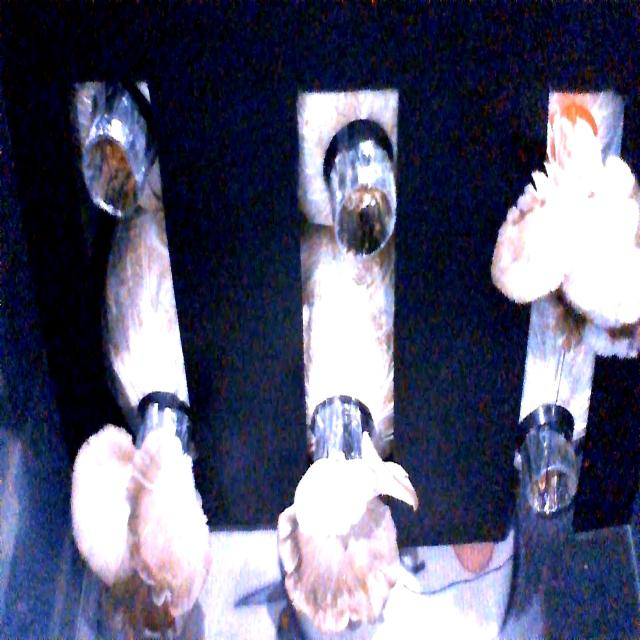big: (71, 440, 202, 600), (278, 463, 410, 621)
nfound: (78, 125, 142, 222), (518, 447, 577, 533), (333, 194, 397, 257)
